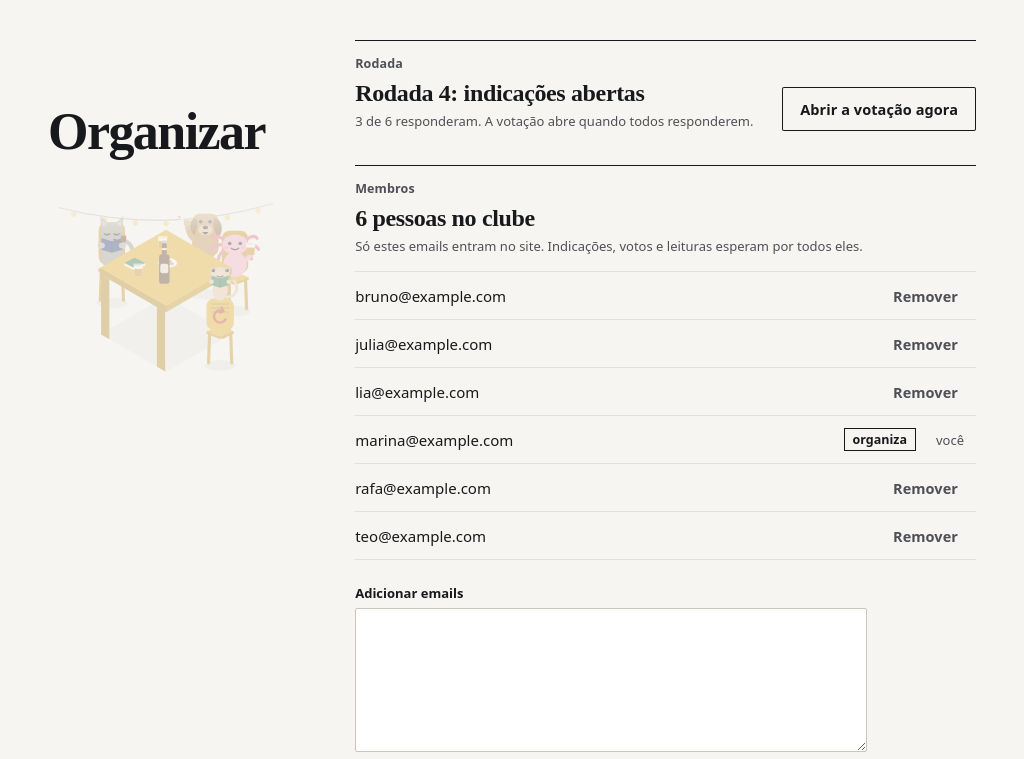
Test: AdminPage, members › adds pasted emails and keeps "everyone" in step
Type "Nova Pessoa <nova@example.com>, rafa@example.com" into the text box labelled "Adicionar emails" at (611, 680), box [355, 608, 867, 752]
(page scrolled)
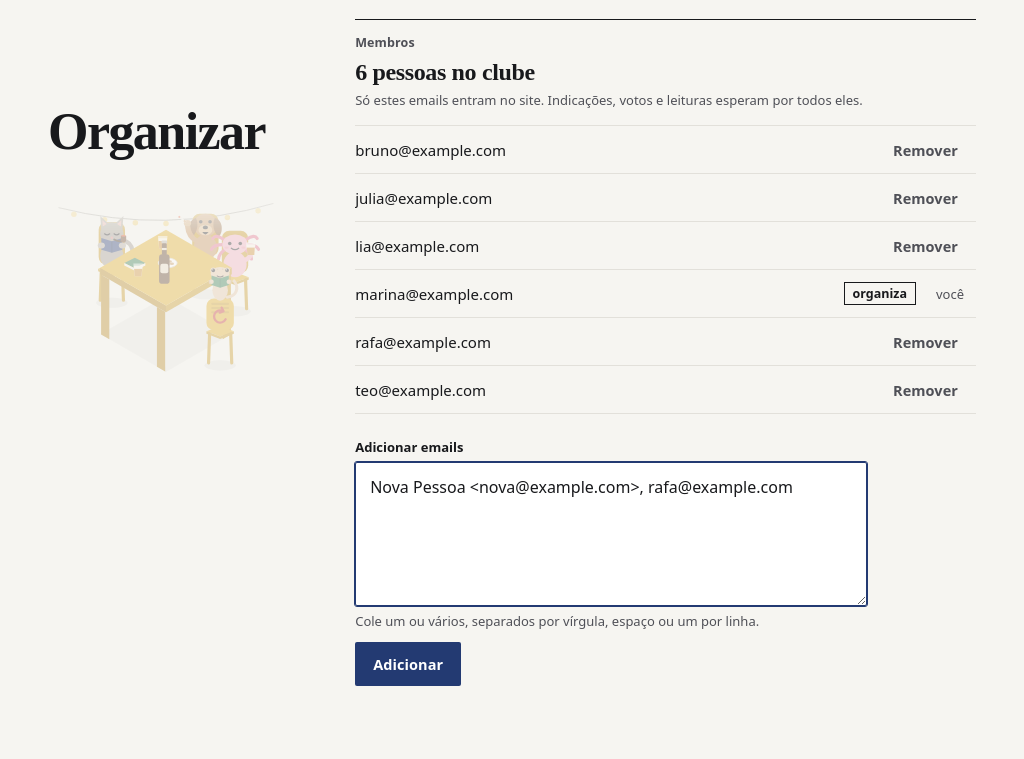
Click the button "Adicionar" at (408, 664), box [355, 642, 461, 686]
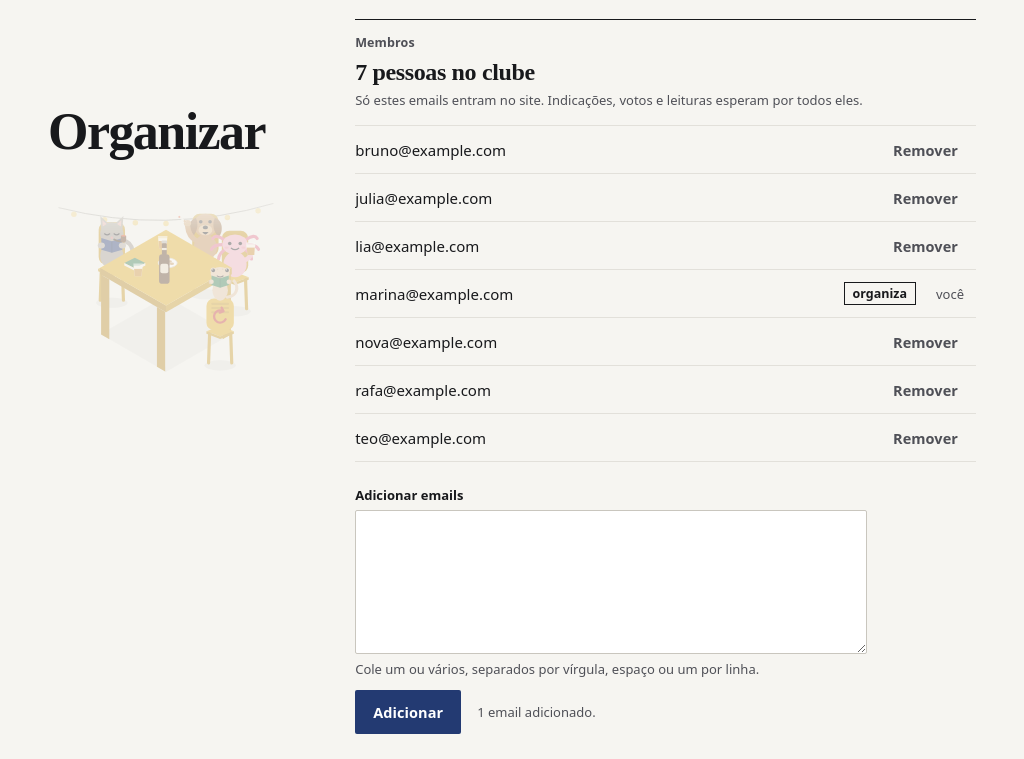
Expected: the text "1 email adicionado." is shown, [477, 703, 596, 721]
Expected: the text "nova@example.com" is shown, [355, 332, 497, 352]
Expected: the text "7 pessoas no clube" is shown, [355, 59, 535, 85]
